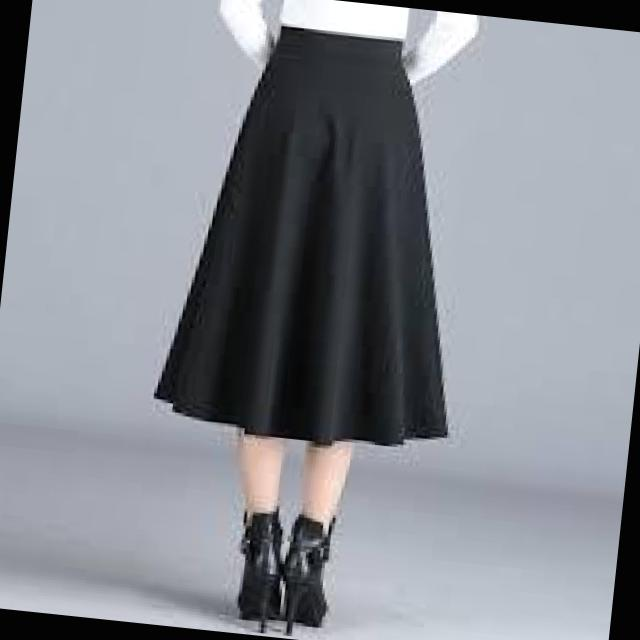skirt: (148, 8, 496, 464)
